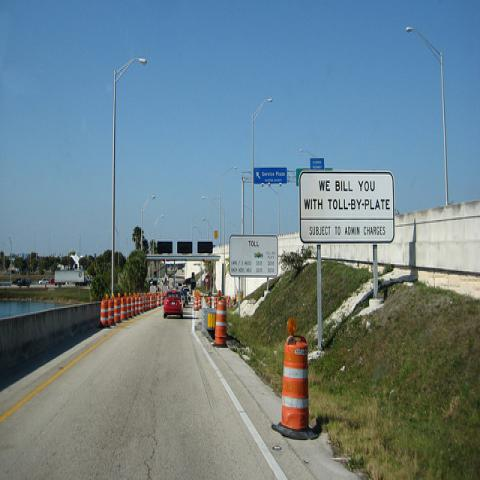car: (163, 290, 184, 318), (183, 288, 191, 302), (181, 290, 186, 307), (183, 290, 188, 305)
